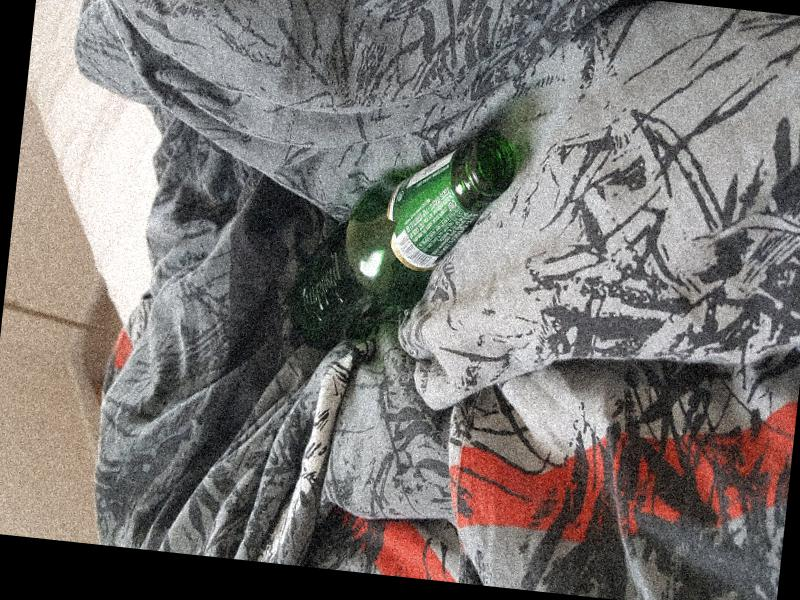Beer: (286, 114, 518, 369)
